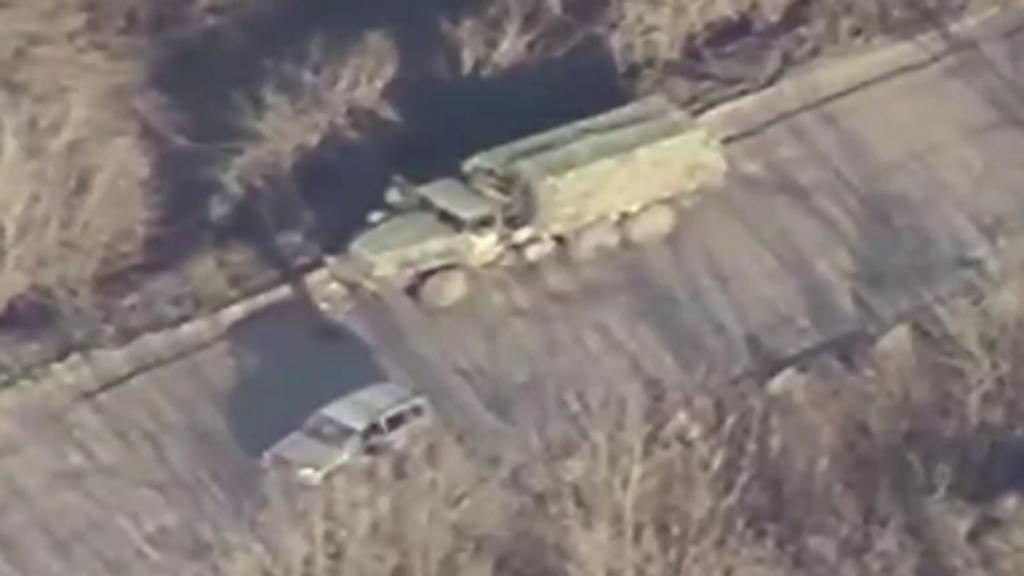CAR: (254, 369, 432, 495)
TRUCK: (340, 86, 740, 311)
